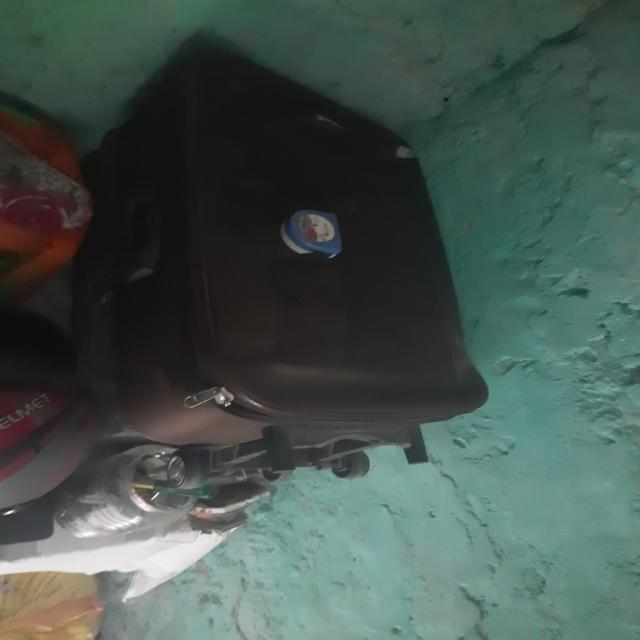suitcaserotation: (79, 44, 494, 494)
